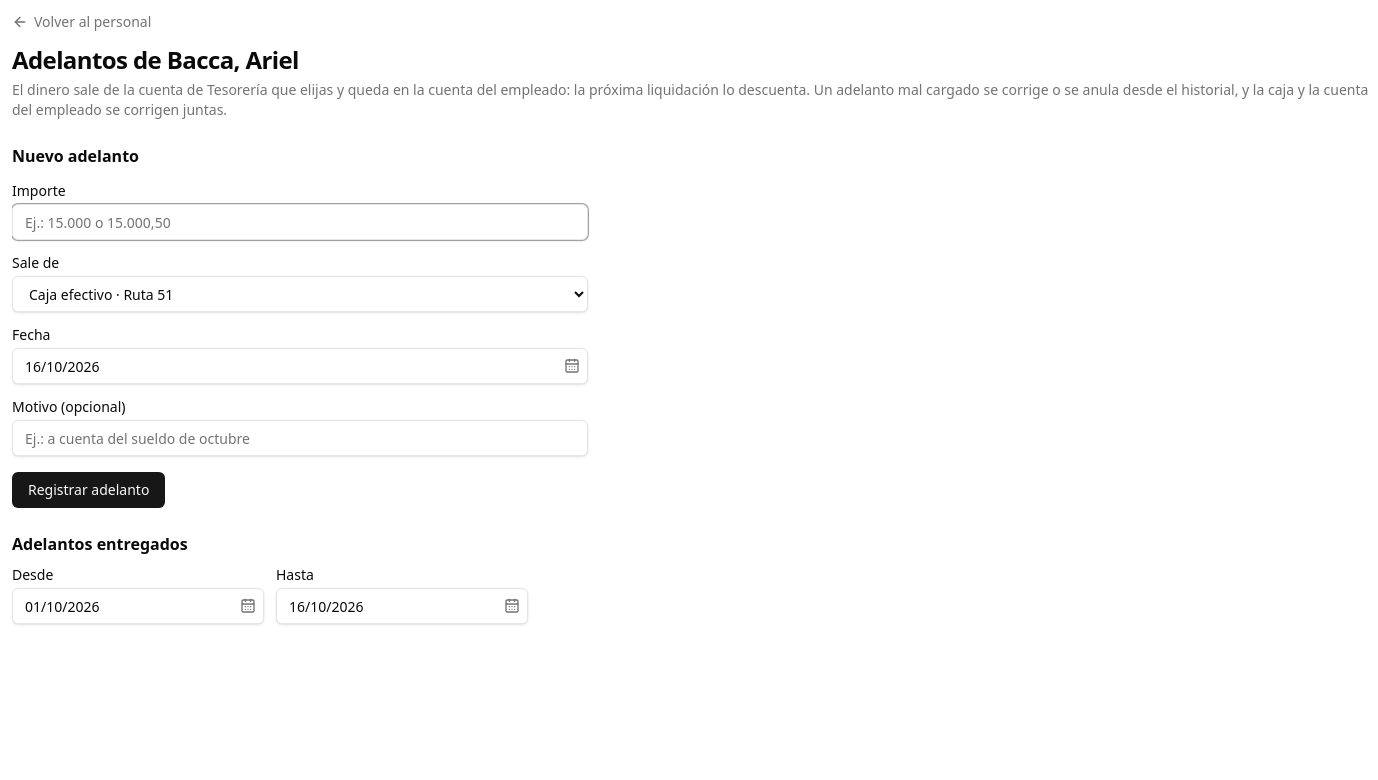
it: EmployeeAdvancePage › shows the history of the latest dates asked, never a late answer for earlier ones
Replace the text in the field labelled "Desde" with "01/01/2026": (138,606) [12,588,264,624]
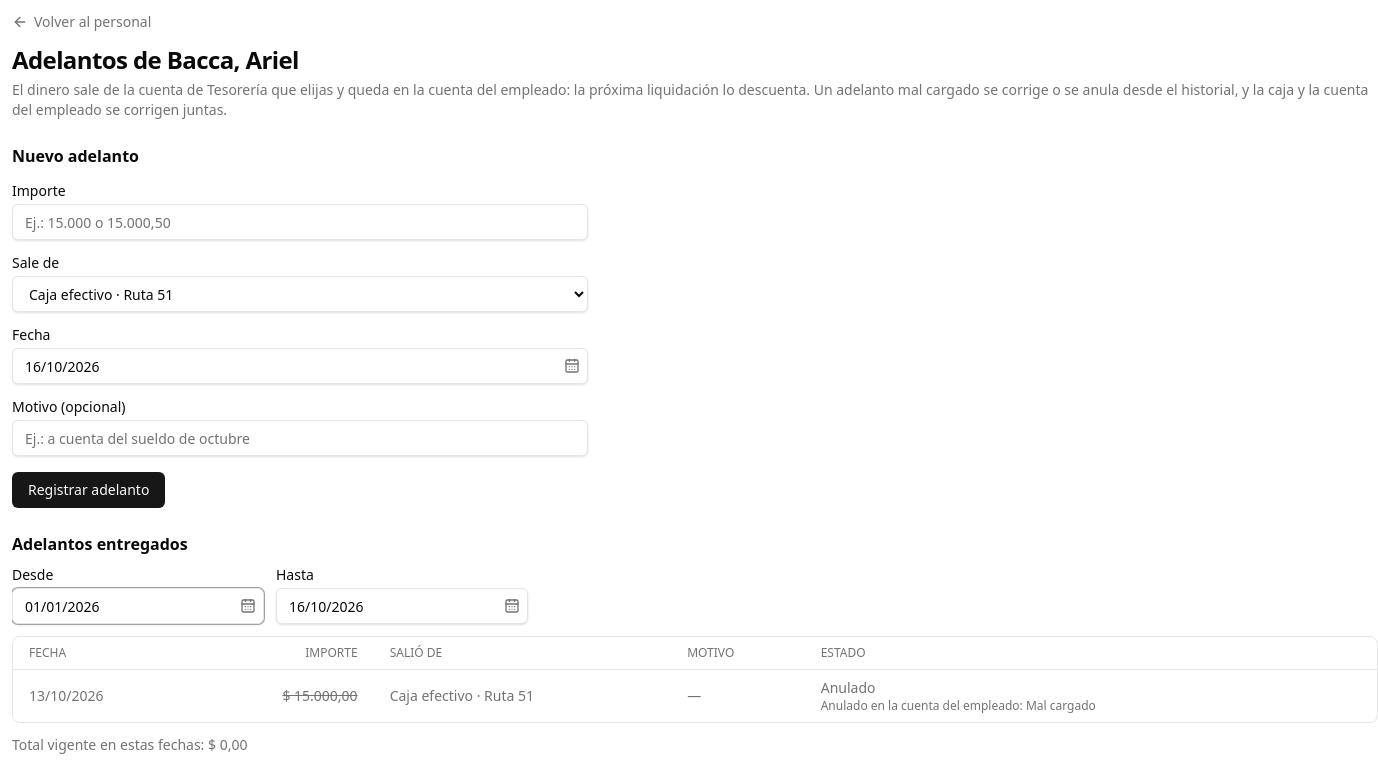
Expected: the text "Anulado en la cuenta del empleado: Mal cargado" is shown, [821,697,1096,714]
Note: A range the other way round says so, without the list of the dates it no longer shows.
Replace the text in the field labelled "Hasta" with "01/12/2025": (402,606) [276,588,528,624]
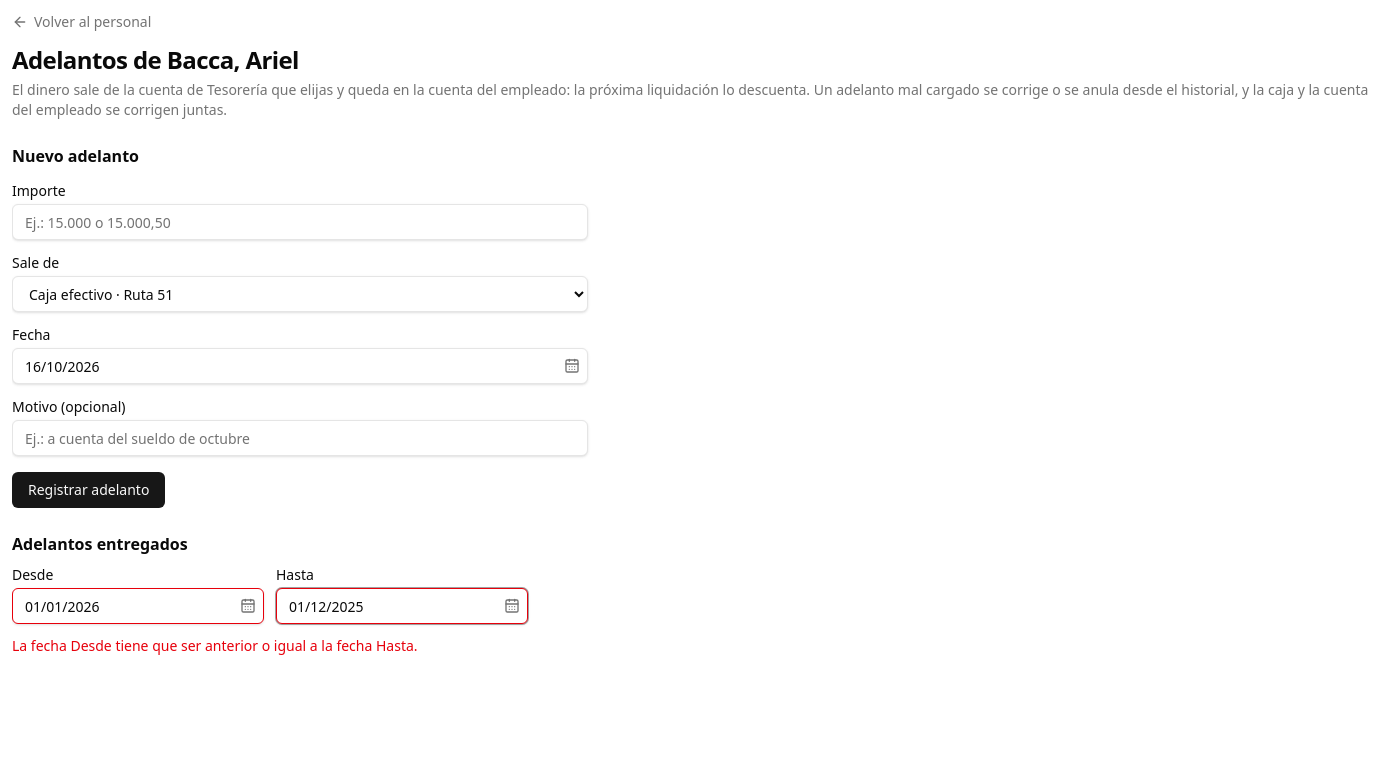
Expected: the text "La fecha Desde tiene que ser anterior o igual a la fecha Hasta." is shown, [12,636,418,655]
